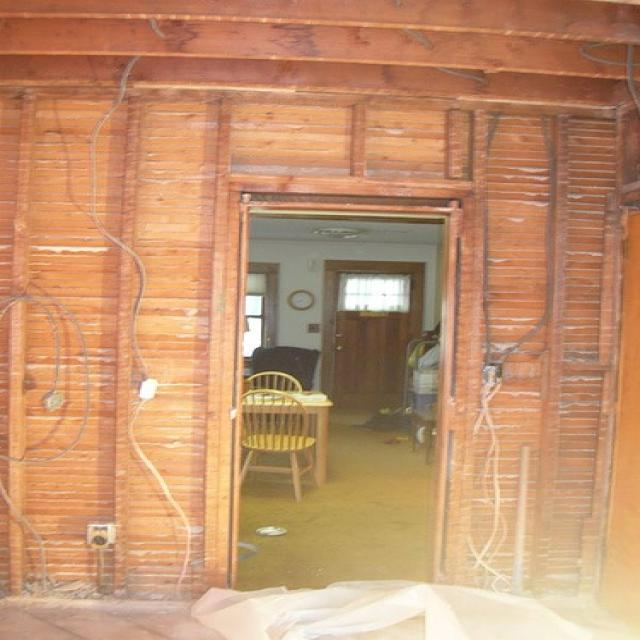chair: (237, 389, 314, 501), (242, 371, 302, 393)
